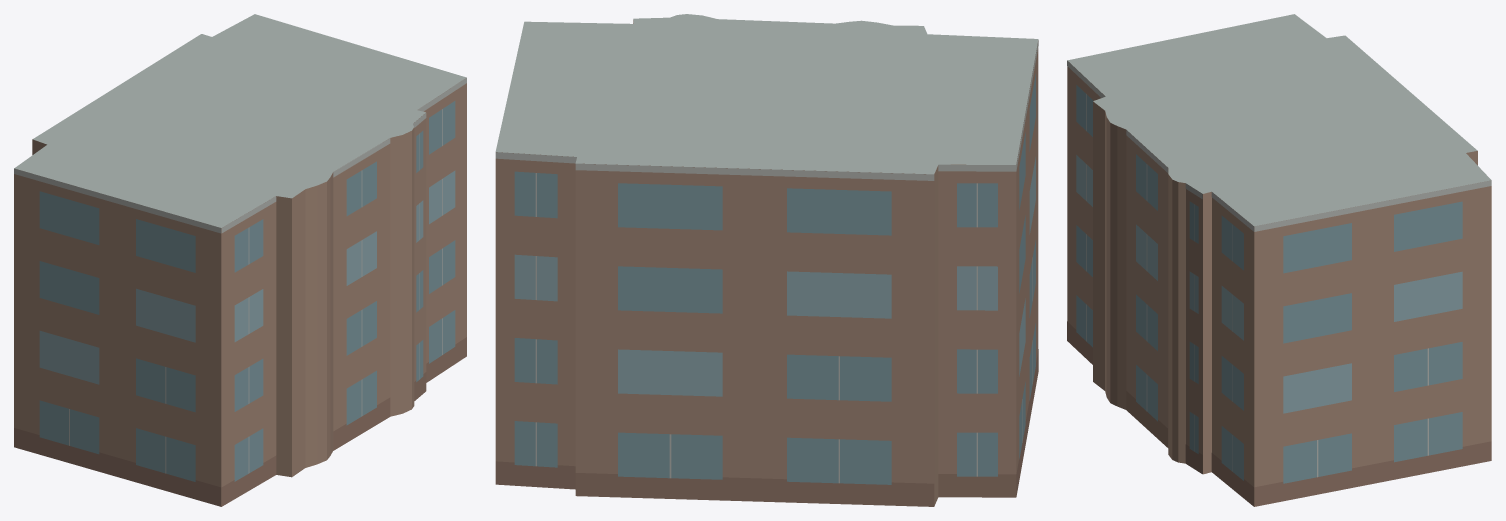
Rendered from survey-upis-32740666.glb.
The picture shows the model from 3 angles, left to right: view 1: azimuth 30°, elevation 25°; view 2: azimuth 150°, elevation 25°; view 3: azimuth 270°, elevation 25°; orthographic projection. The views are drawn at different scales.
Visible parts, largest first — view 1: survey-upis-32740666.tmp; view 2: survey-upis-32740666.tmp; view 3: survey-upis-32740666.tmp.
Part boxes in pixels (box(x1,y1,x2,y2)): survey-upis-32740666.tmp: box(14, 14, 466, 506); survey-upis-32740666.tmp: box(495, 14, 1038, 506); survey-upis-32740666.tmp: box(1067, 14, 1491, 506).
Size of the model in its own units: 19.82 by 12.2 by 16.74.
